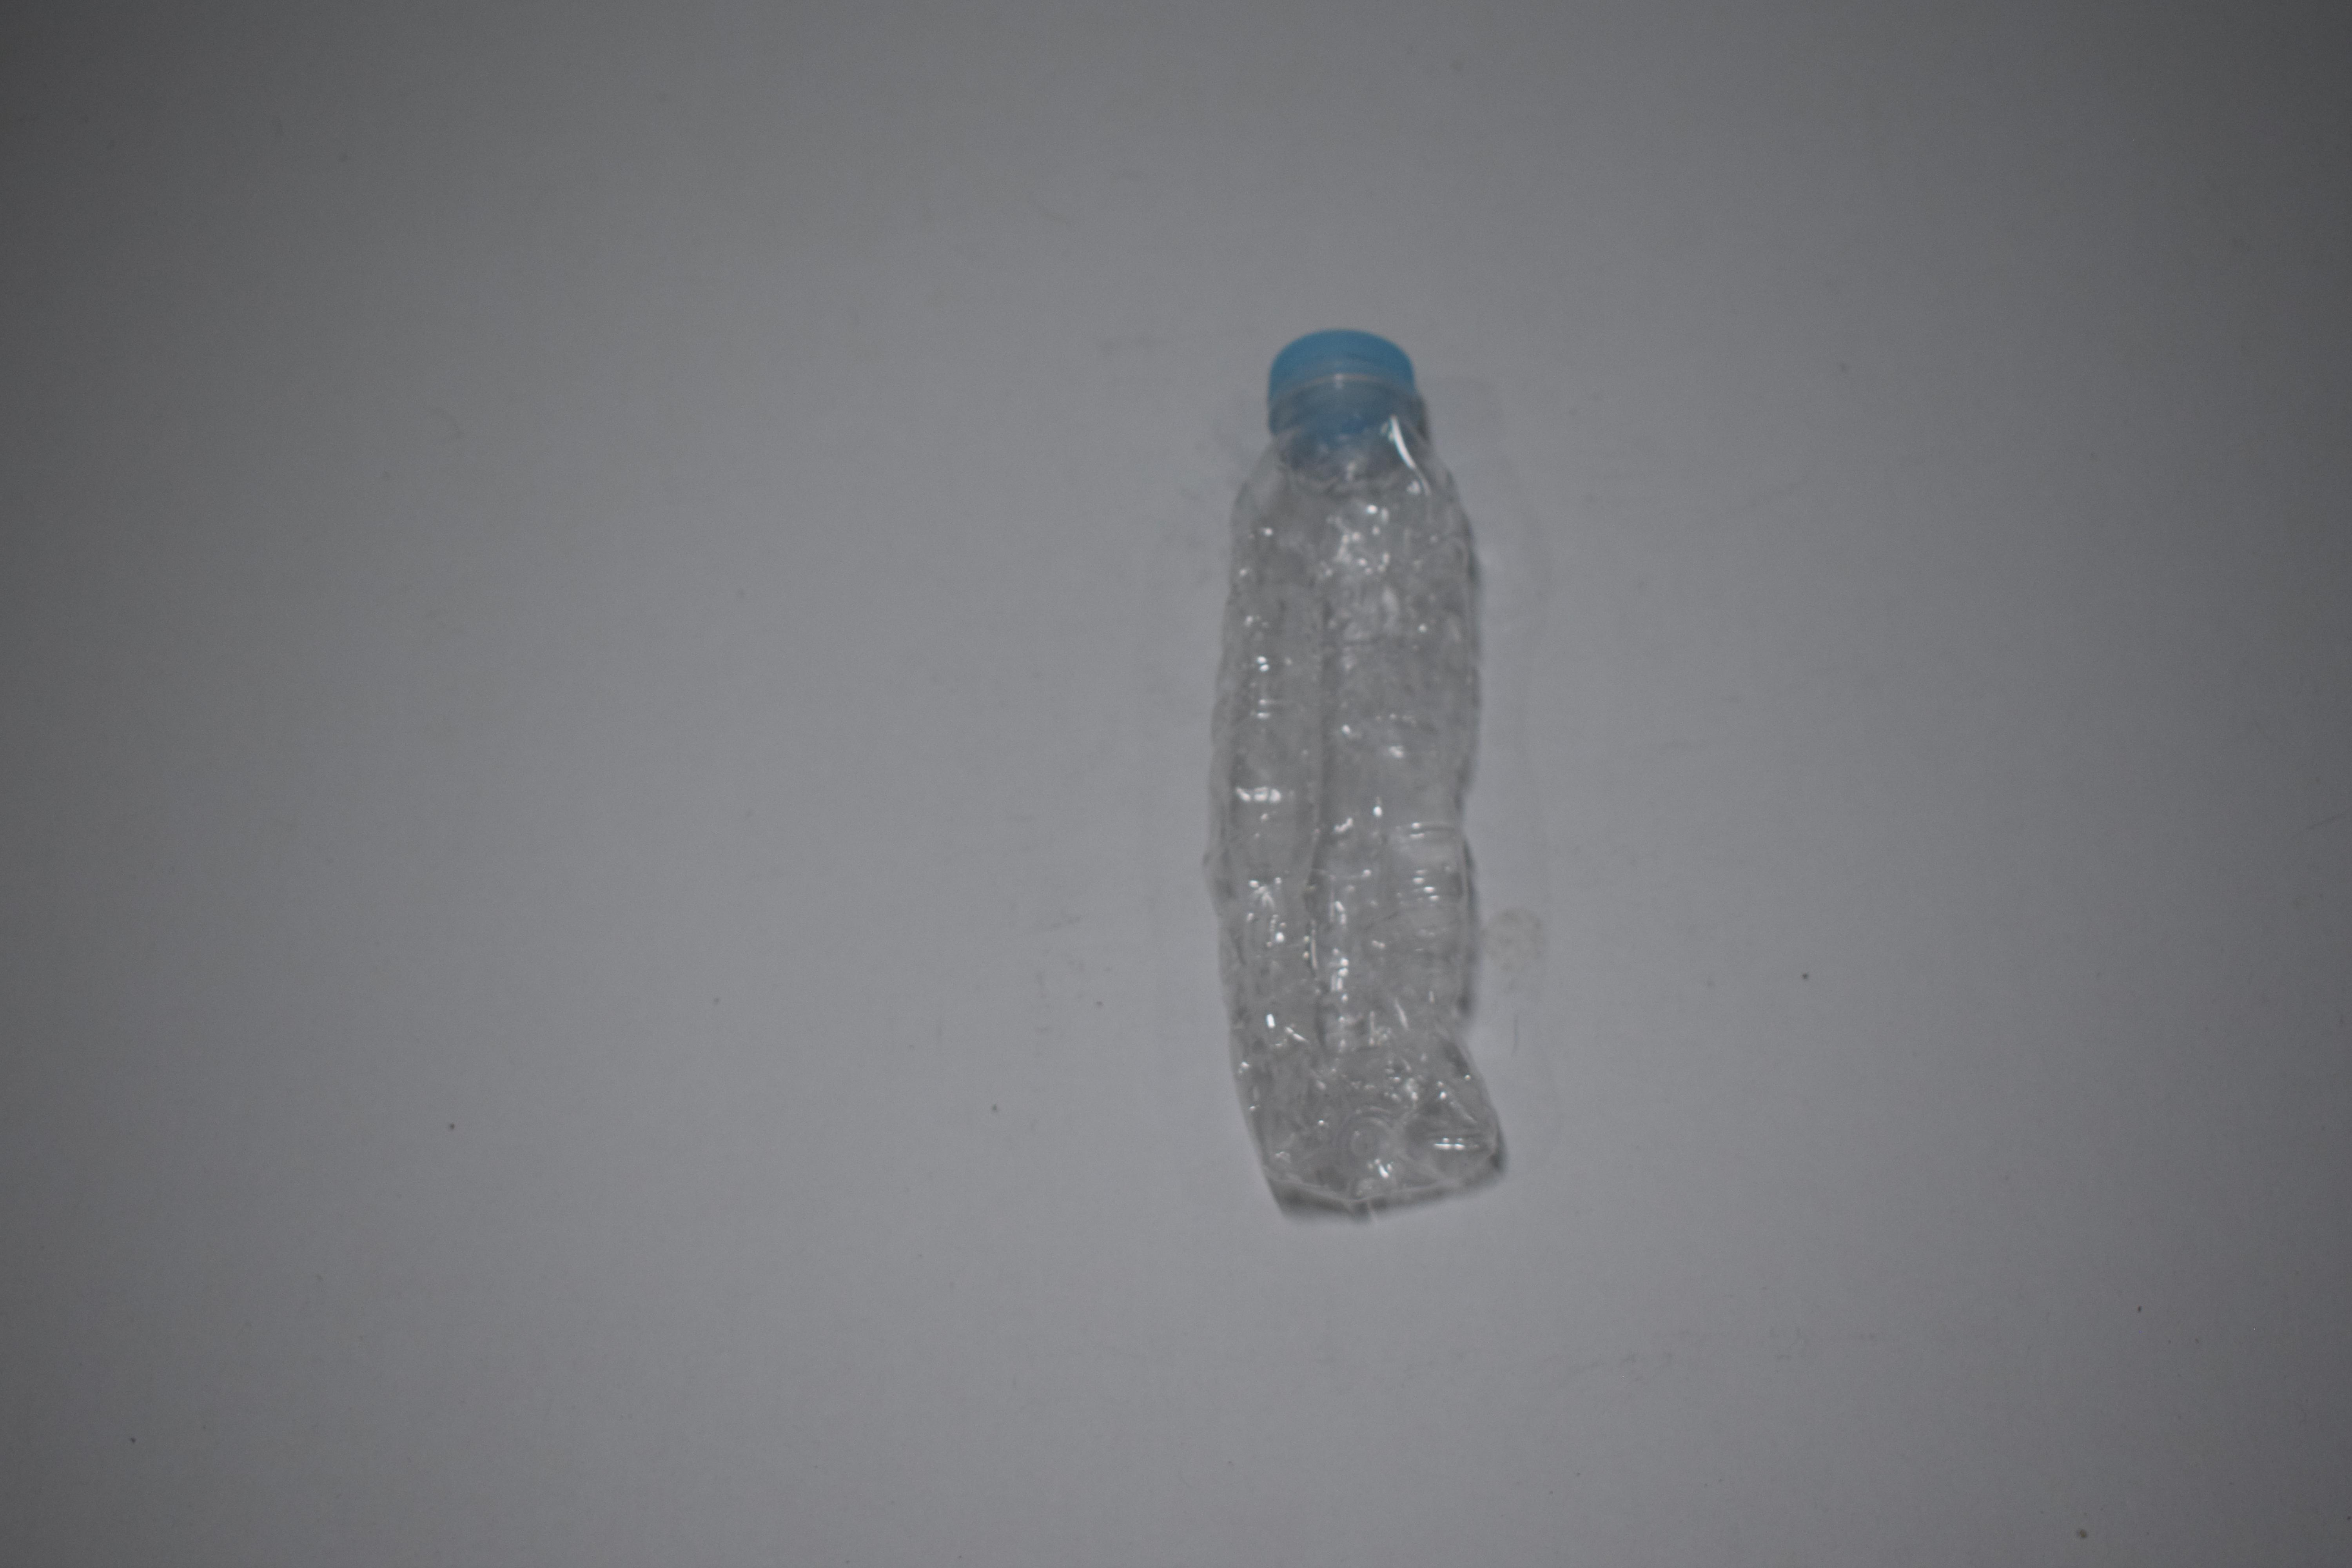bottle: (26, 709, 336, 835)
